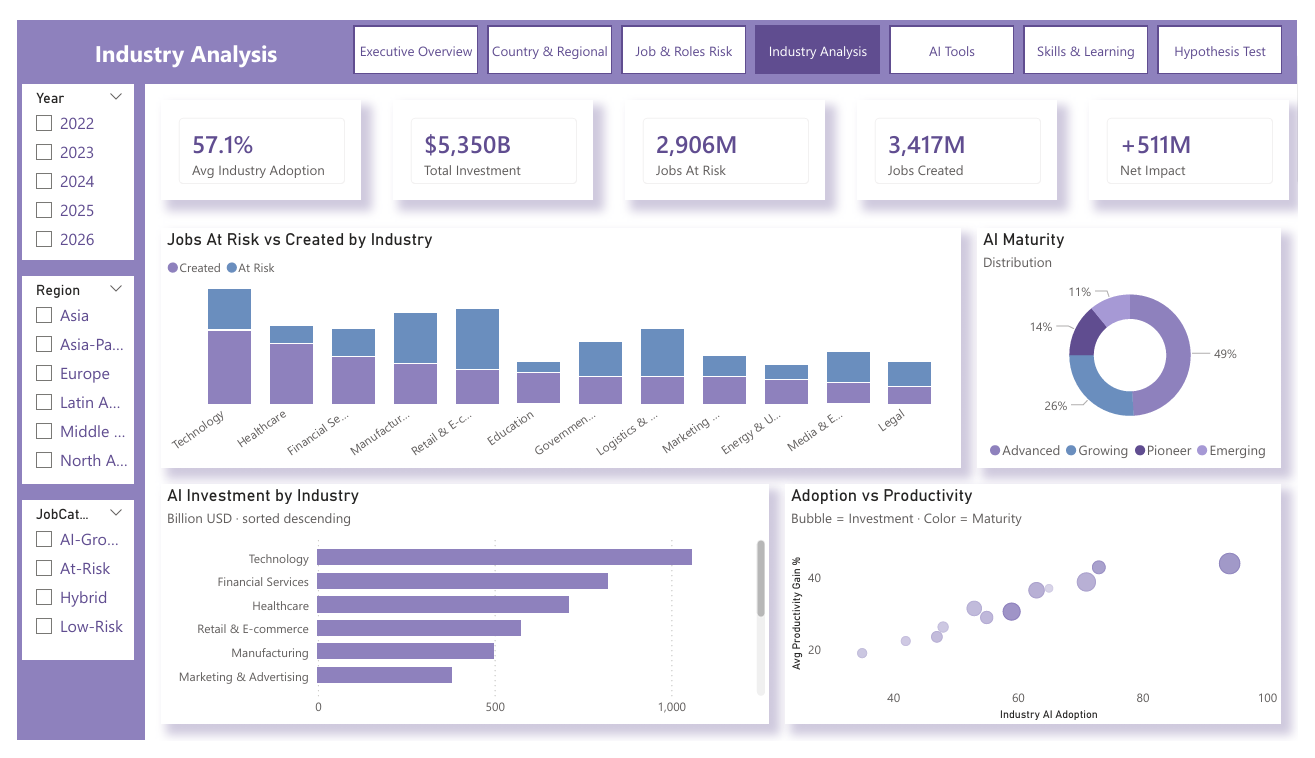

The page's visual inventory and layout, read from the dashboard file:
{"tool":"powerbi","page":{"name":"Industry Analysis","canvas":[1280,720],"ordinal":3},"visuals":[{"type":"shape","box":[0,0,1280,64],"z":0},{"type":"shape","box":[0,64,128,656],"z":1000},{"type":"cardVisual","fields":{"Data":["Measure.Avg Industry Adoption"]},"box":[144,80,200,100],"z":2000},{"type":"cardVisual","fields":{"Data":["Measure.Total Investment"]},"box":[376,80,200,100],"z":3000},{"type":"cardVisual","fields":{"Data":["Measure.Jobs At Risk"]},"box":[608,80,200,100],"z":4000},{"type":"cardVisual","fields":{"Data":["Measure.Jobs Created"]},"box":[840,80,200,100],"z":5000},{"type":"cardVisual","fields":{"Data":["Measure.Net Impact"]},"box":[1072,80,200,100],"z":6000},{"type":"columnChart","title":"Jobs At Risk vs Created by Industry","fields":{"Category":["Fact_JobsAI.IndustryName"],"Y":["Avg(Fact_JobsAI.Ind_JobsCreatedM)","Avg(Fact_JobsAI.Ind_JobsAtRiskM)"]},"box":[144,208,800,240],"z":7000},{"type":"donutChart","title":"AI Maturity","fields":{"Category":["Fact_JobsAI.AIMaturityLevel"],"Y":["CountNonNull(Fact_JobsAI.AIMaturityLevel)"]},"box":[960,208,304,240],"z":8000},{"type":"clusteredBarChart","title":"AI Investment by Industry","fields":{"Y":["Sum(Fact_JobsAI.Ind_InvestBn$)"],"Category":["Fact_JobsAI.IndustryName"]},"box":[144,464,608,240],"z":9000},{"type":"scatterChart","title":"Adoption vs Productivity","fields":{"X":["Fact_JobsAI.Ind_AIAdoption%"],"Y":["Avg(Fact_JobsAI.ProductivityGain%)"],"Size":["Sum(Fact_JobsAI.Ind_InvestBn$)"]},"box":[768,464,496,240],"z":10000},{"type":"slicer","fields":{"Values":["Dim_Date.Year"]},"box":[5,64,112,176],"z":11000},{"type":"slicer","fields":{"Values":["Fact_JobsAI.Region"]},"box":[5,256,112,208],"z":12000},{"type":"slicer","fields":{"Values":["Fact_JobsAI.JobCategory"]},"box":[5,480,112,160],"z":13000},{"type":"shape","box":[0,0,336,64],"z":15000},{"type":"pageNavigator","box":[336,5,928,48],"z":15001}]}

Visuals, with their boxes in screenshot pixels (x1, y1, x2, y2), scaled from the page's 1280x720 canvas onto the 1315x758 screenshot:
shape: pyautogui.locateOnScreen(0, 0, 1314, 67)
shape: pyautogui.locateOnScreen(0, 67, 132, 757)
cardVisual - Measure.Avg Industry Adoption: pyautogui.locateOnScreen(148, 84, 353, 190)
cardVisual - Measure.Total Investment: pyautogui.locateOnScreen(386, 84, 592, 190)
cardVisual - Measure.Jobs At Risk: pyautogui.locateOnScreen(625, 84, 830, 190)
cardVisual - Measure.Jobs Created: pyautogui.locateOnScreen(863, 84, 1068, 190)
cardVisual - Measure.Net Impact: pyautogui.locateOnScreen(1101, 84, 1307, 190)
"Jobs At Risk vs Created by Industry" columnChart: pyautogui.locateOnScreen(148, 219, 970, 472)
"AI Maturity" donutChart: pyautogui.locateOnScreen(986, 219, 1299, 472)
"AI Investment by Industry" clusteredBarChart: pyautogui.locateOnScreen(148, 488, 773, 741)
"Adoption vs Productivity" scatterChart: pyautogui.locateOnScreen(789, 488, 1299, 741)
slicer - Dim_Date.Year: pyautogui.locateOnScreen(5, 67, 120, 253)
slicer - Fact_JobsAI.Region: pyautogui.locateOnScreen(5, 270, 120, 488)
slicer - Fact_JobsAI.JobCategory: pyautogui.locateOnScreen(5, 505, 120, 674)
shape: pyautogui.locateOnScreen(0, 0, 345, 67)
pageNavigator: pyautogui.locateOnScreen(345, 5, 1299, 56)
